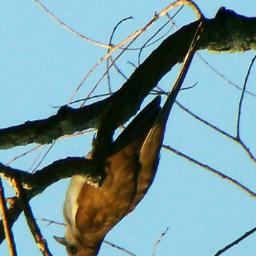Cuckoo: (53, 91, 166, 256)
